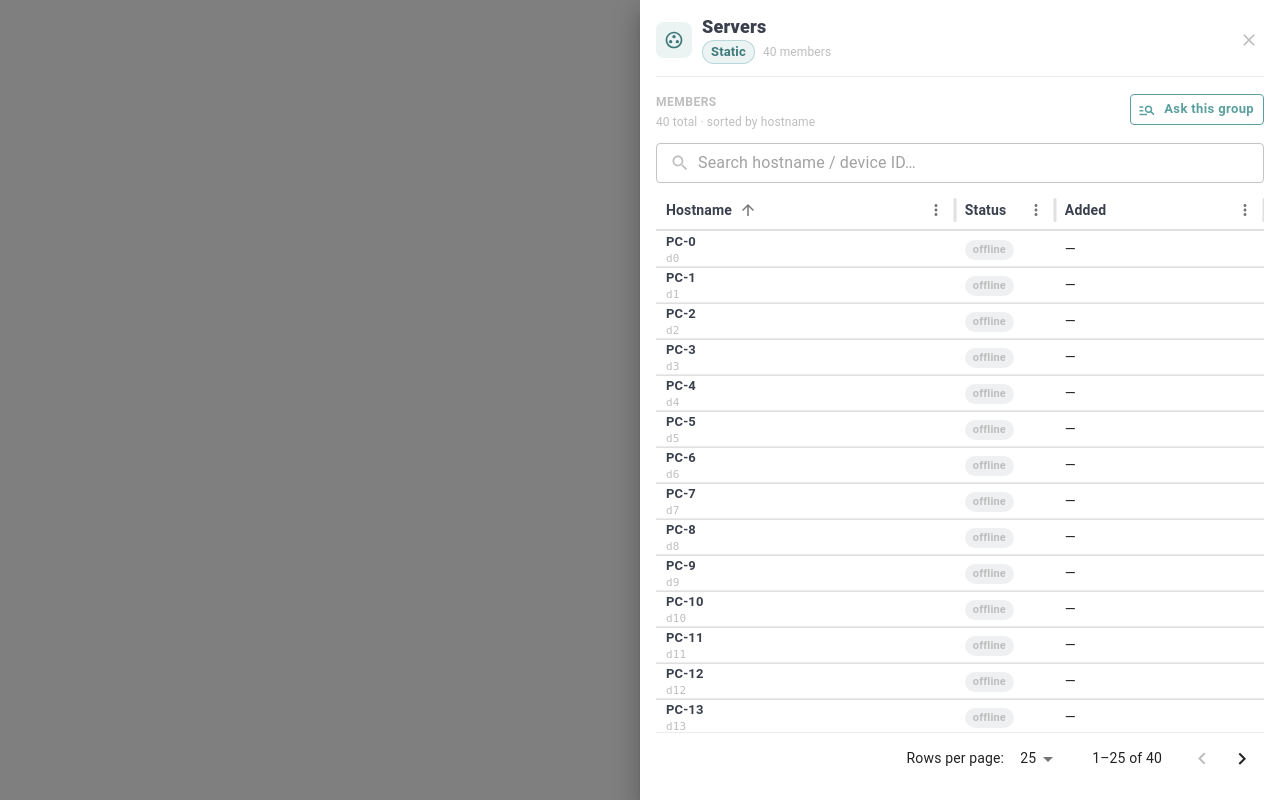
Test: ⭐ GroupDetailDrawer — el tamaño es el del grupo, no el de la página ni la búsqueda › 40 miembros en páginas de 25; buscar algo que no existe no apaga «Ask this group»
Expected: the text "40 members" is shown, [763,43,831,61]
Expected: the text "40 total · sorted by hostname" is shown, [656,113,815,131]
Step 1. Type "zzz" into the field → (981, 163), box [698,143,1264,183]
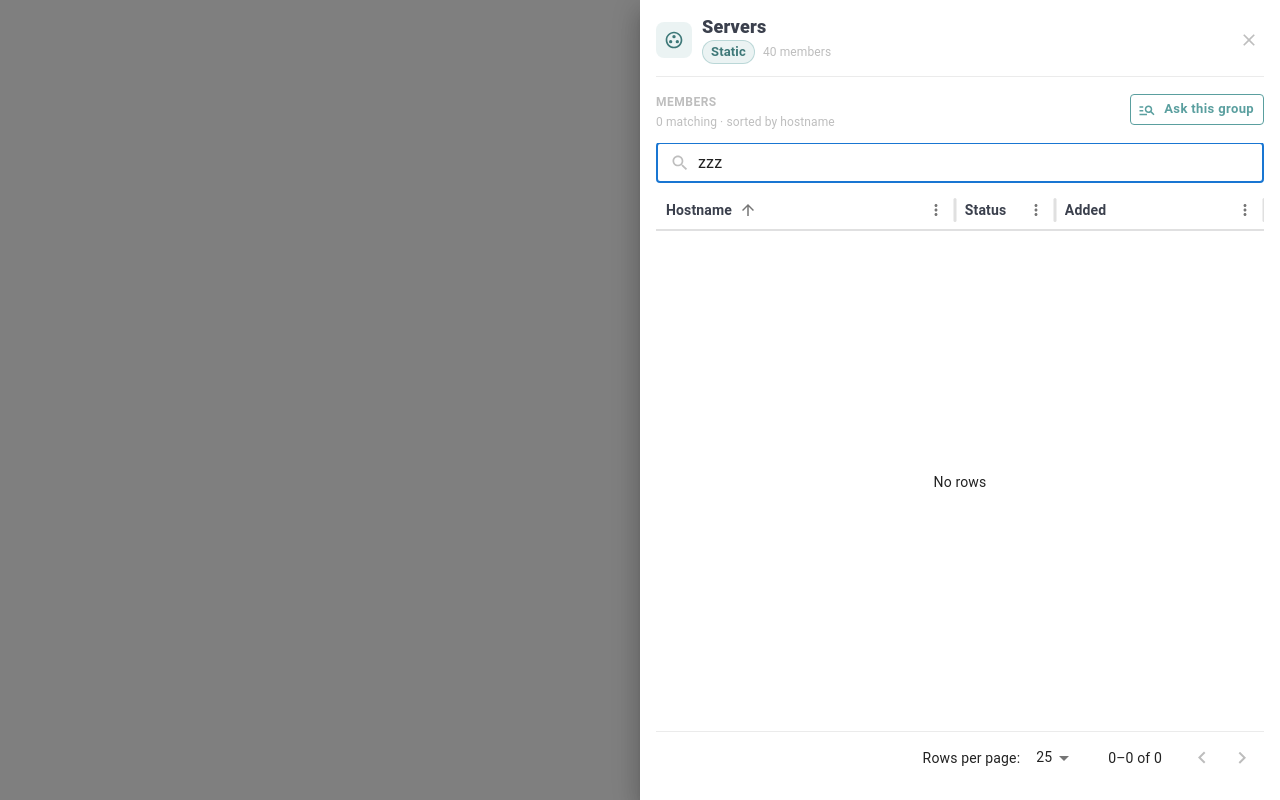
Expected: the text "40 members" is shown, [763,43,831,61]
Now the text "0 matching · sorted by hostname" is shown, box [656,113,835,131]
